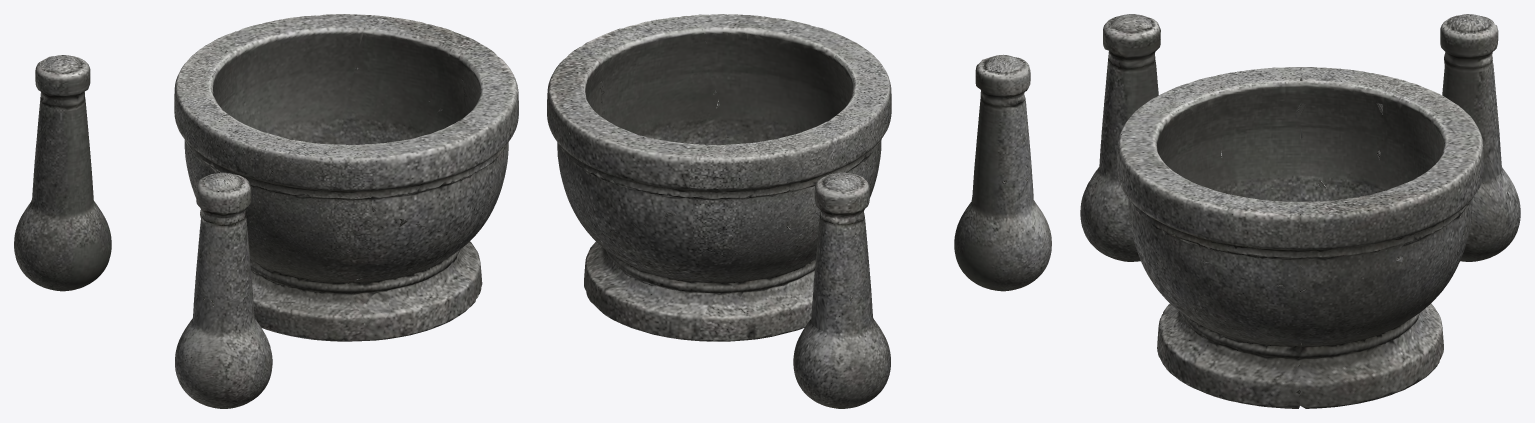
Rendered from mortar-desktop.glb.
The picture shows the model from 3 angles, left to right: view 1: azimuth 30°, elevation 25°; view 2: azimuth 150°, elevation 25°; view 3: azimuth 270°, elevation 25°; orthographic projection. The views are drawn at different scales.
Visible parts, largest first — view 1: tripo_node_271d1d59-3655-4fa3-8d5c-0f08266bdc7e; view 2: tripo_node_271d1d59-3655-4fa3-8d5c-0f08266bdc7e; view 3: tripo_node_271d1d59-3655-4fa3-8d5c-0f08266bdc7e.
Boxes of the visible parts, left/top/right/bottom form: tripo_node_271d1d59-3655-4fa3-8d5c-0f08266bdc7e: left=14, top=14, right=518, bottom=408; tripo_node_271d1d59-3655-4fa3-8d5c-0f08266bdc7e: left=547, top=14, right=1051, bottom=408; tripo_node_271d1d59-3655-4fa3-8d5c-0f08266bdc7e: left=1080, top=14, right=1520, bottom=408.
Size of the model in its own units: 0.9713 by 0.5309 by 0.8972.
1 material, 1 textured.
